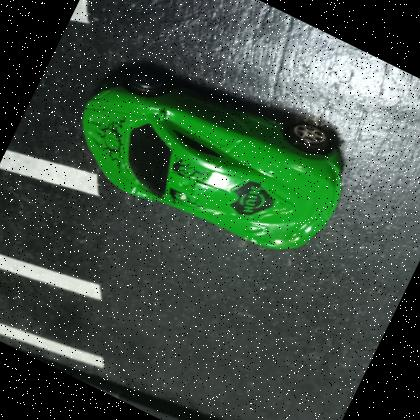Car: (54, 31, 366, 282)
